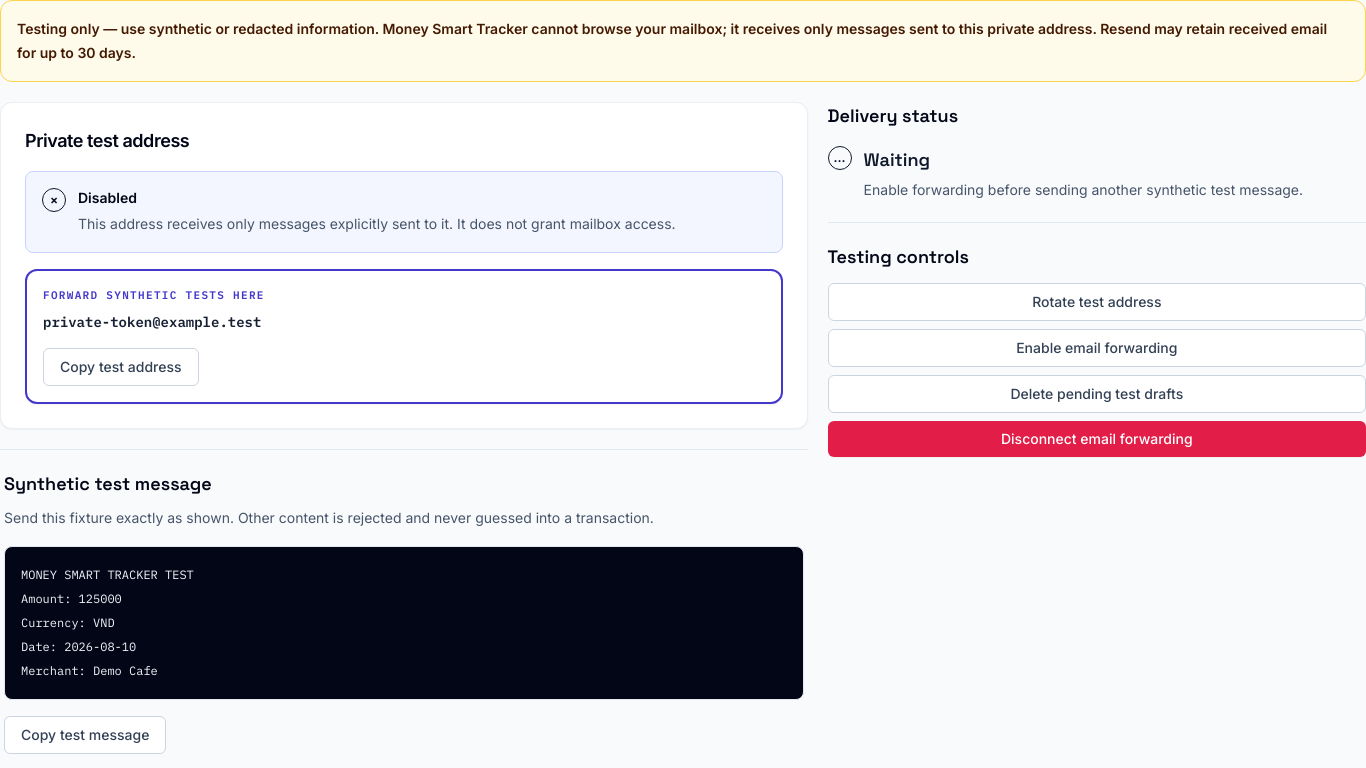
Test case: EmailSetupPanel confirmations › confirms enabling before accepting new test messages
The image size is (1366, 768).
Click the button "Enable email forwarding". click: (1097,348)
box: [828, 329, 1365, 367]
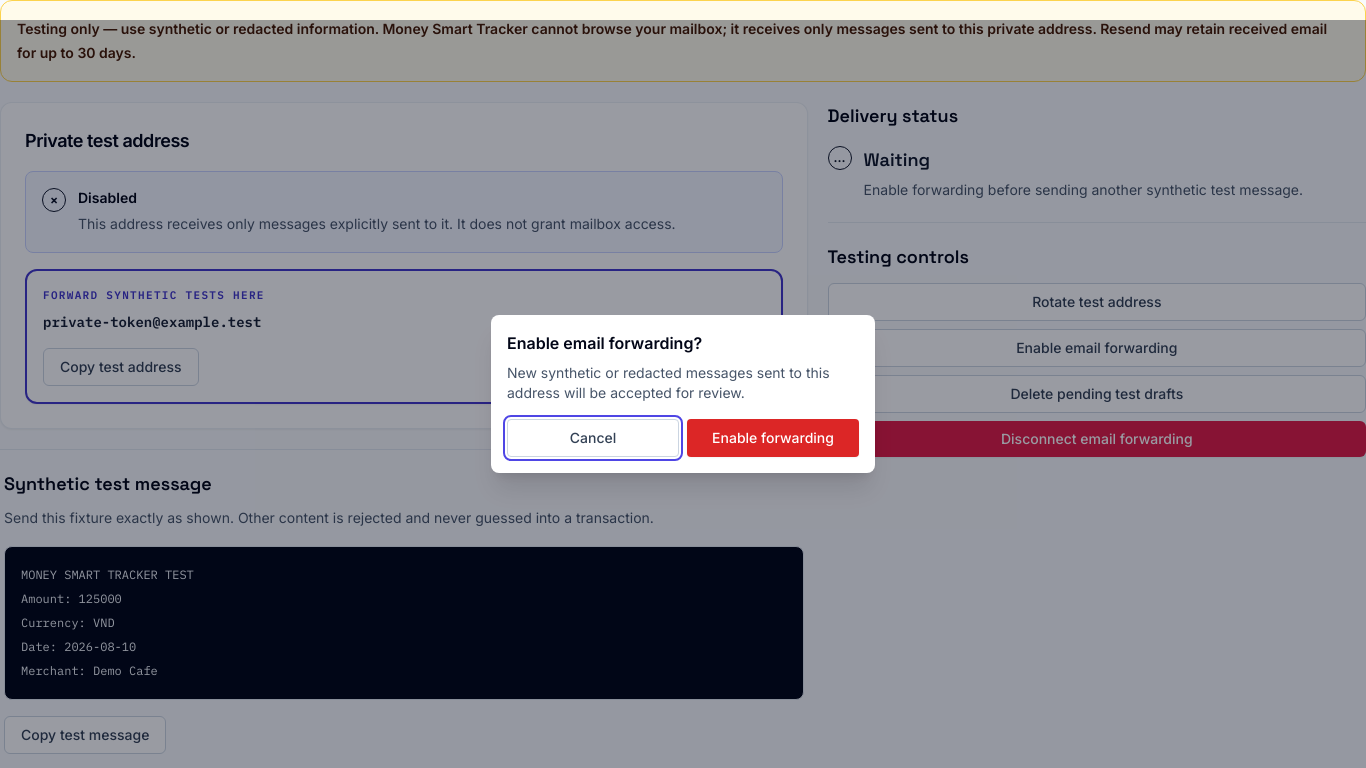
Now the dialog "Enable email forwarding?" shows "New synthetic or redacted messages sent to this address will be accepted for review.", box [507, 364, 830, 401]
Click the button "Enable forwarding". click: (773,438)
box: [687, 419, 859, 457]
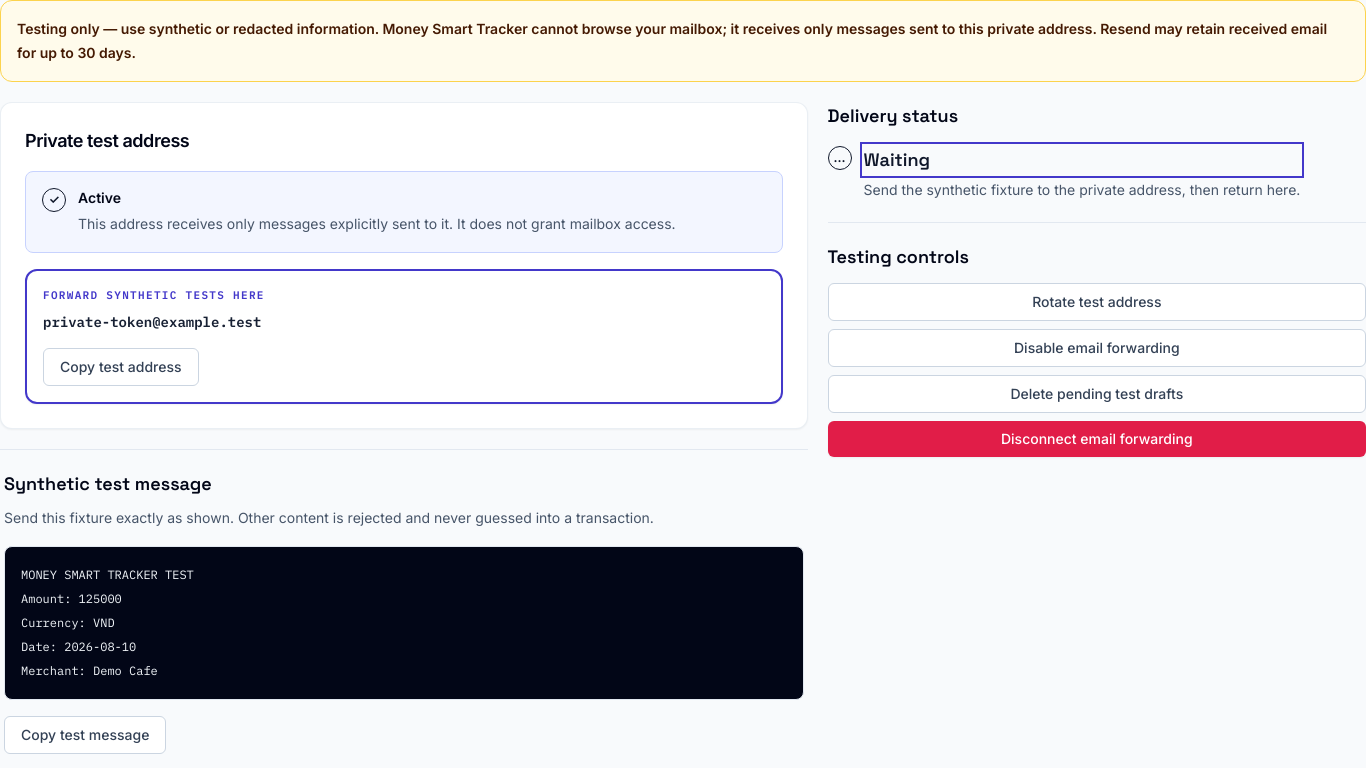
Now the text "Active" is shown, box [78, 189, 121, 206]
Now the button "Disable email forwarding" is shown, box [828, 329, 1365, 367]
